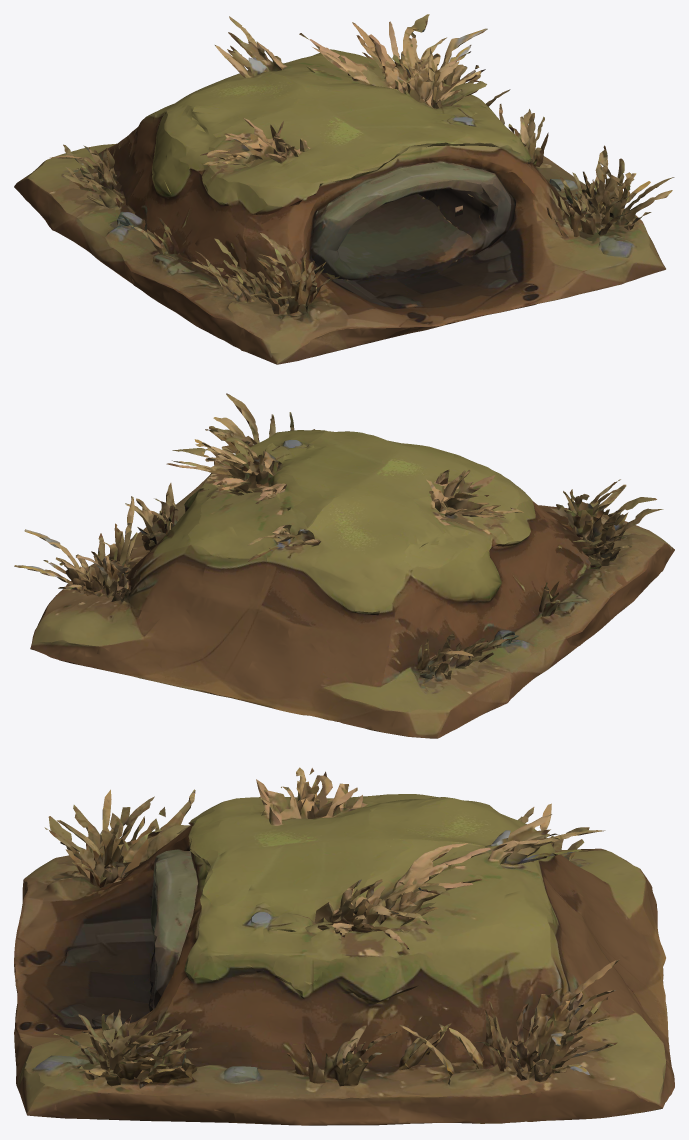
Rendered from den_rabbit_burrow.glb.
The picture shows the model from 3 angles, top to bottom: view 1: azimuth 30°, elevation 25°; view 2: azimuth 150°, elevation 25°; view 3: azimuth 270°, elevation 25°; orthographic projection. The views are drawn at different scales.
Parts seen in each view (by area): view 1: den_rabbit_burrow; view 2: den_rabbit_burrow; view 3: den_rabbit_burrow.
Boxes of the visible parts, box(x1,y1,x2,y2) form: den_rabbit_burrow: box(14, 14, 674, 364); den_rabbit_burrow: box(14, 393, 674, 738); den_rabbit_burrow: box(14, 767, 674, 1125).
Size of the model in its own units: 1.18 by 0.3704 by 1.2.
1 material, 1 textured.
